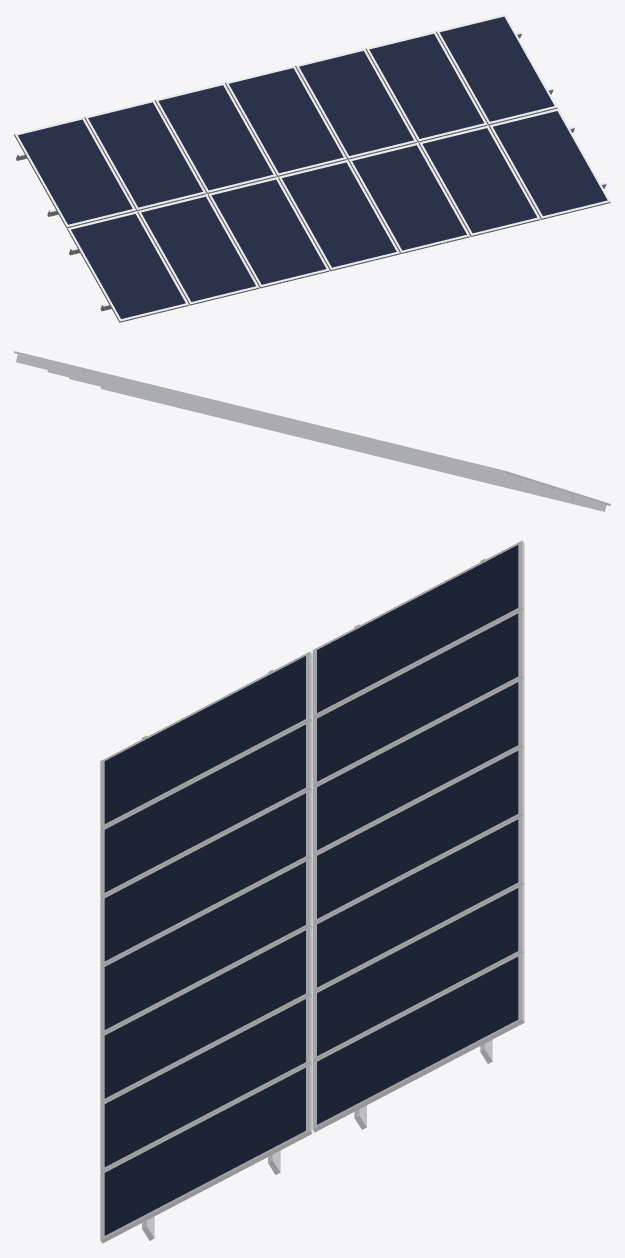
The model's file is v1_enclosure.glb.
3 views of the same model, one above another, from view 1: azimuth 30°, elevation 25°; view 2: azimuth 150°, elevation 25°; view 3: azimuth 270°, elevation 25° (orthographic). The views are drawn at different scales.
Parts seen in each view (by area): view 1: cell.8, cell.1, cell.10, cell.11, cell.13, cell.2, cell.4, cell.5, cell.6, cell.7, cell.14, cell.3 (+16 smaller); view 2: metal.4, metal.3, metal.1, metal.2, metal.108, metal.111, metal.109, metal.110, metal.113, metal.114, metal.112; view 3: cell.5, cell.2, cell.6, cell.12, cell.4, cell.9, cell.11, cell.1, cell.7, cell.8, cell.10, cell.3 (+16 smaller).
Boxes of the visible parts, bbox=[...] form: cell.8: bbox=[18, 119, 132, 224]; cell.1: bbox=[71, 214, 185, 318]; cell.10: bbox=[158, 85, 273, 190]; cell.11: bbox=[229, 68, 343, 173]; cell.13: bbox=[369, 34, 483, 138]; cell.2: bbox=[141, 197, 255, 301]; cell.4: bbox=[282, 162, 396, 267]; cell.5: bbox=[352, 145, 466, 250]; cell.6: bbox=[422, 128, 537, 233]; cell.7: bbox=[493, 111, 607, 215]; cell.14: bbox=[440, 16, 554, 121]; cell.3: bbox=[211, 179, 326, 284]; metal.4: bbox=[16, 355, 521, 485]; metal.3: bbox=[47, 370, 553, 494]; metal.1: bbox=[100, 387, 606, 511]; metal.2: bbox=[69, 377, 574, 501]; metal.108: bbox=[436, 454, 557, 488]; metal.111: bbox=[225, 402, 302, 424]; metal.109: bbox=[365, 437, 443, 458]; metal.110: bbox=[295, 420, 373, 441]; metal.113: bbox=[84, 368, 161, 389]; metal.114: bbox=[14, 351, 92, 372]; metal.112: bbox=[155, 385, 231, 406]; cell.5: bbox=[104, 930, 305, 1098]; cell.2: bbox=[104, 724, 305, 892]; cell.6: bbox=[104, 999, 305, 1166]; cell.12: bbox=[317, 819, 518, 987]; cell.4: bbox=[104, 862, 305, 1029]; cell.9: bbox=[317, 613, 518, 781]; cell.11: bbox=[317, 751, 518, 918]; cell.1: bbox=[104, 656, 305, 823]; cell.7: bbox=[104, 1067, 305, 1235]; cell.8: bbox=[317, 545, 518, 712]; cell.10: bbox=[317, 682, 518, 850]; cell.3: bbox=[104, 793, 305, 960].
Bounding box in the file's own units: 8.26 × 1.76 × 3.01.
